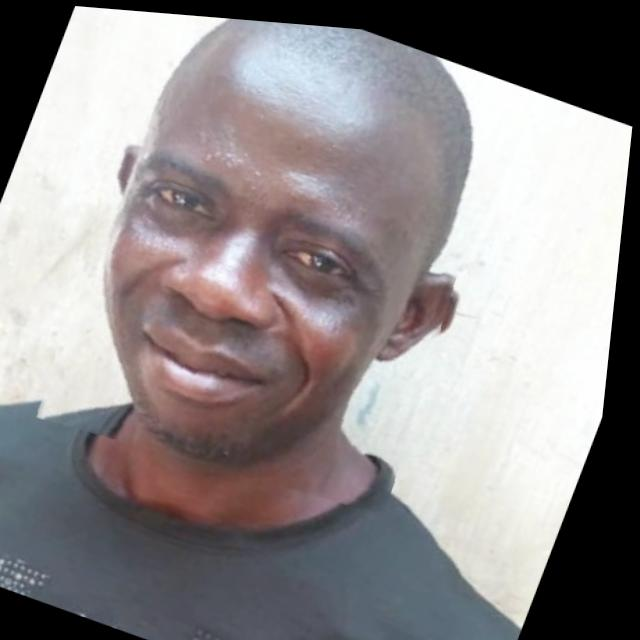happy: (17, 4, 542, 531)
